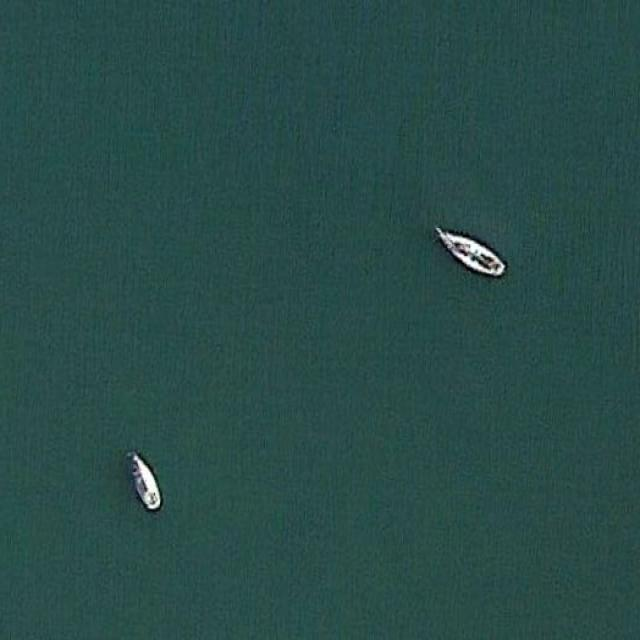ship: (432, 223, 507, 277), (126, 442, 162, 510)
